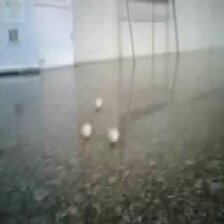w: (105, 126, 119, 142), (80, 123, 93, 137), (94, 97, 102, 107)
